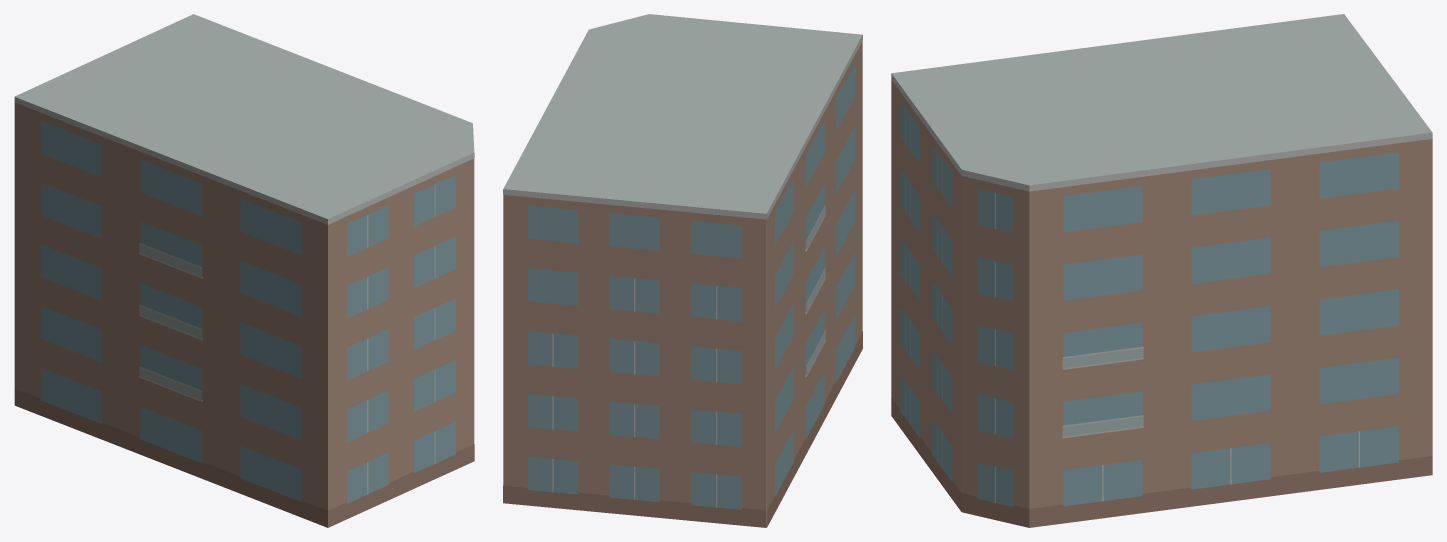
Rendered from survey-upis-33010988.glb.
3 renders of one model, left to right at view 1: azimuth 30°, elevation 25°; view 2: azimuth 150°, elevation 25°; view 3: azimuth 270°, elevation 25°, orthographic. The views are drawn at different scales.
Visible parts, largest first — view 1: survey-upis-33010988.tmp; view 2: survey-upis-33010988.tmp; view 3: survey-upis-33010988.tmp.
Part boxes in pixels (bbox=[...]): survey-upis-33010988.tmp: bbox=[14, 14, 474, 527]; survey-upis-33010988.tmp: bbox=[503, 14, 862, 527]; survey-upis-33010988.tmp: bbox=[891, 14, 1432, 527].
Bounding box in the file's own units: 14.39 × 13.4 × 19.2.
